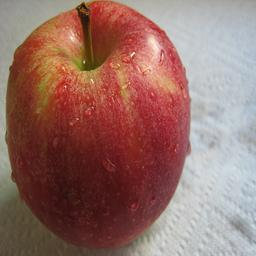apple: (2, 0, 191, 248)
